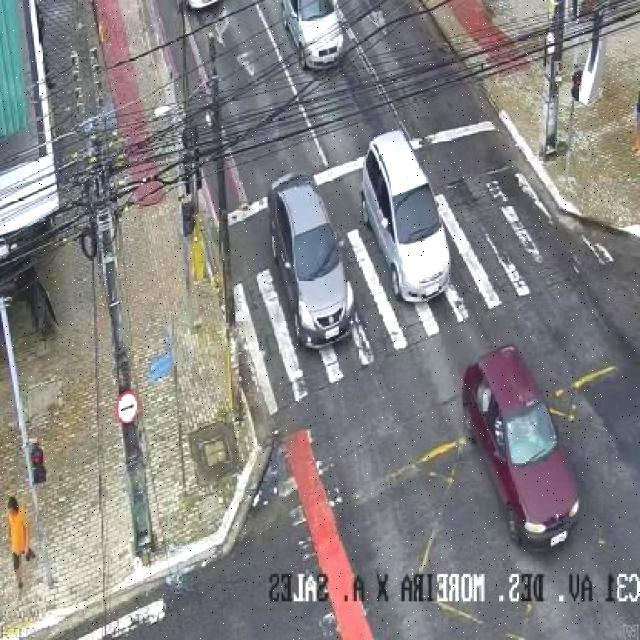Car: (460, 342, 582, 554), (359, 130, 452, 305), (269, 170, 357, 351), (279, 0, 348, 71)
